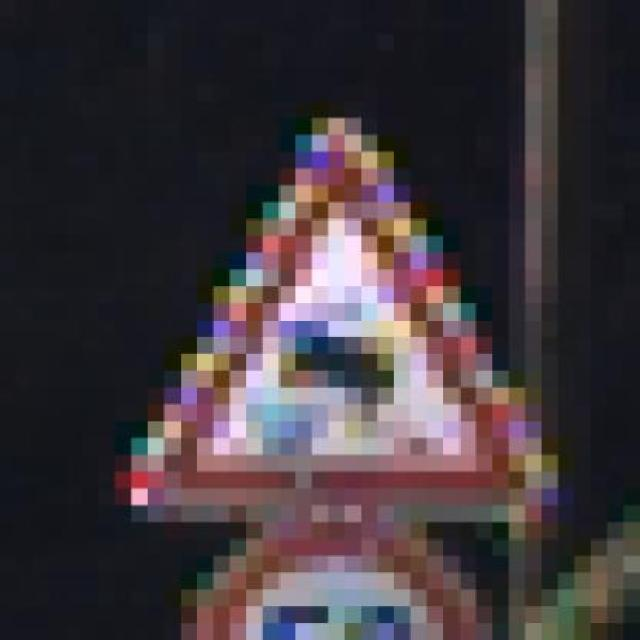Slippery Road Ahead: (99, 101, 558, 522)
